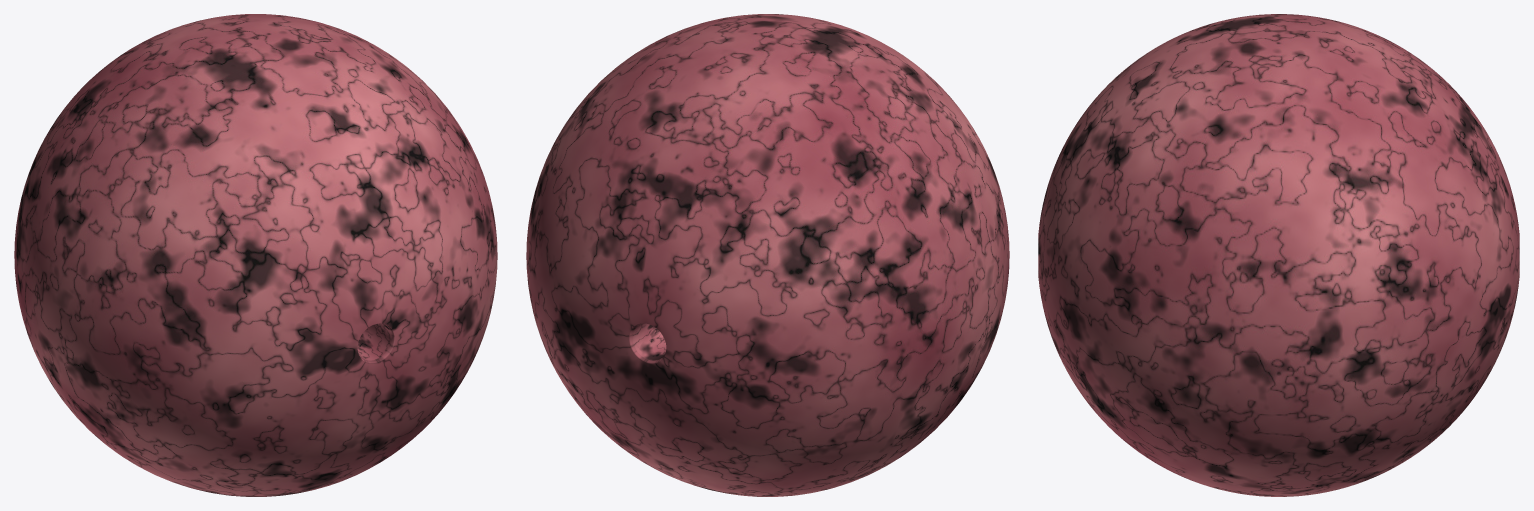
File: rhodonite-12mm.glb
3 views of the same model, side by side, from view 1: azimuth 30°, elevation 25°; view 2: azimuth 150°, elevation 25°; view 3: azimuth 270°, elevation 25° (orthographic).
Visible parts, largest first — view 1: rhodonite.001; view 2: rhodonite.001; view 3: rhodonite.001.
Boxes of the visible parts, left/top/right/bottom form: rhodonite.001: left=14, top=14, right=497, bottom=496; rhodonite.001: left=526, top=14, right=1009, bottom=496; rhodonite.001: left=1038, top=14, right=1519, bottom=496.
Size of the model in its own units: 0.012 by 0.012 by 0.012.
Materials: 1 (1 with a texture image).
